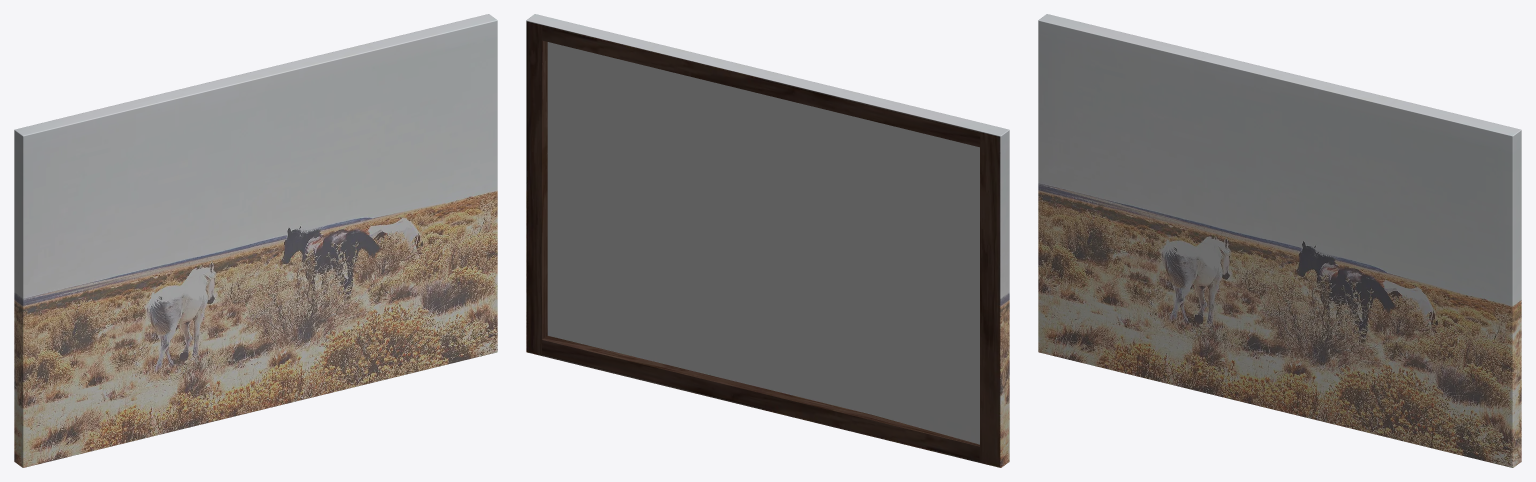
Rendered from abo-B073P14C4B.glb.
The picture shows the model from 3 angles, left to right: view 1: azimuth 30°, elevation 25°; view 2: azimuth 150°, elevation 25°; view 3: azimuth 330°, elevation 25°; orthographic projection.
Size of the model in its own units: 1.52 by 1.02 by 0.051.
Materials: 1 (1 with a texture image).
